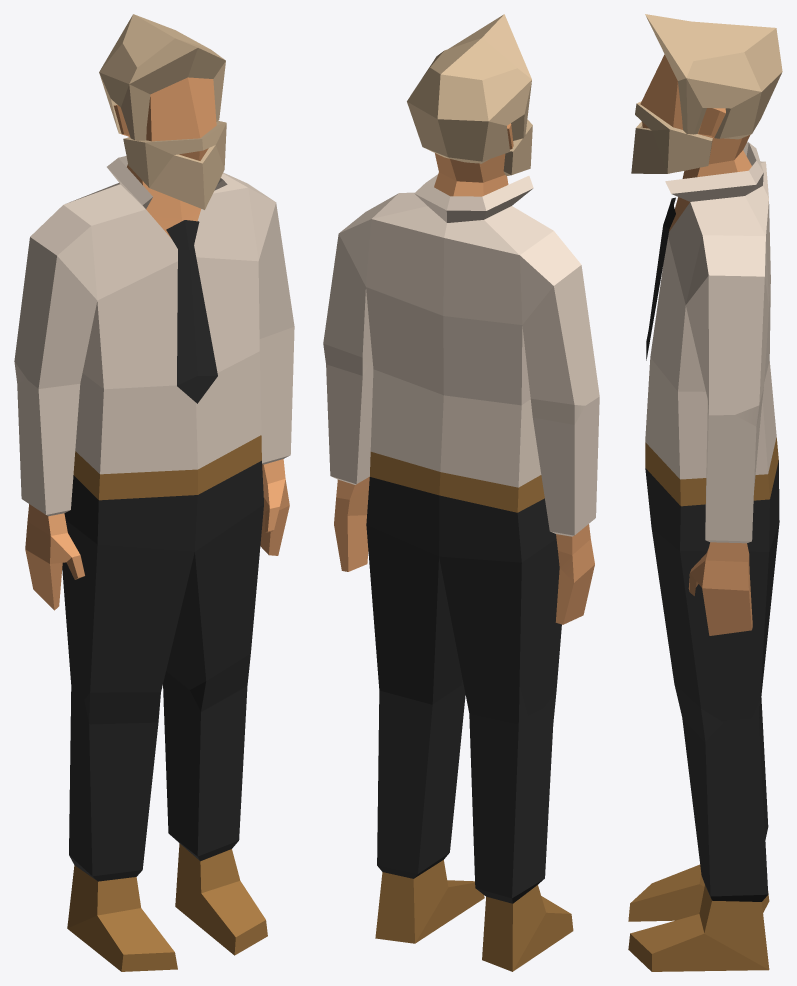
File: Man.obj
3 views of the same model, side by side, from view 1: azimuth 30°, elevation 25°; view 2: azimuth 150°, elevation 25°; view 3: azimuth 270°, elevation 25° (orthographic). The views are drawn at different scales.
Parts seen in each view (by area): view 1: man-tie; view 2: man-tie; view 3: man-tie.
Part boxes in pixels (<box>): man-tie: <box>14,14,294,971</box>; man-tie: <box>323,14,599,971</box>; man-tie: <box>628,14,782,971</box>.
Size of the model in its own units: 0.5438 by 1.84 by 0.2797.
